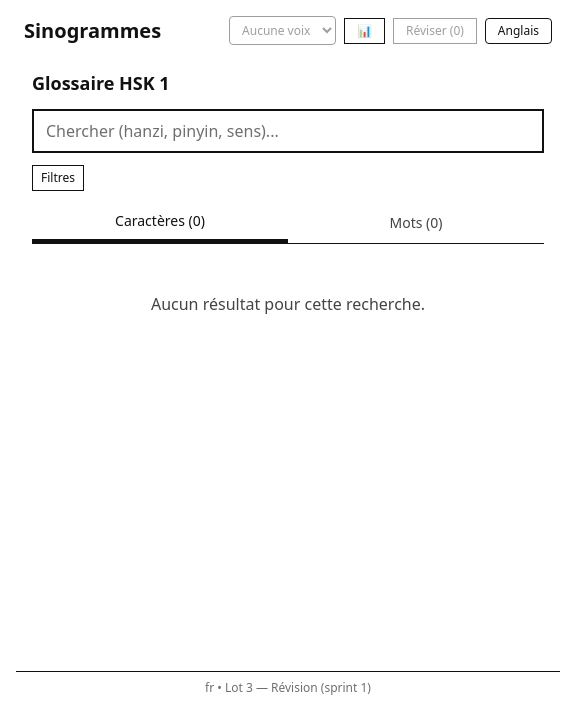
Scenario: App › bascule vers l’anglais quand on clique sur le bouton de langue
Step 1. Click the button with test id "language-toggle" → (518, 30), box [485, 18, 552, 44]
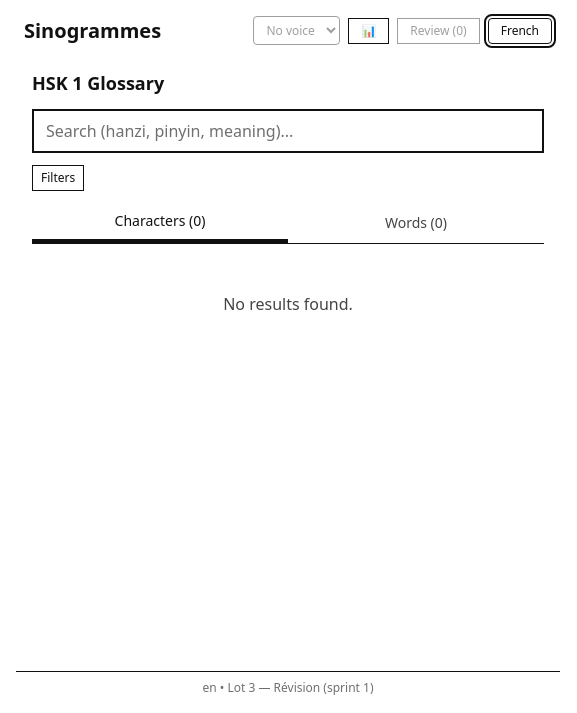
Check: the text with test id "current-language" shows "en", box [202, 679, 217, 696]
Check: the button "French" is shown, box [488, 18, 552, 44]
